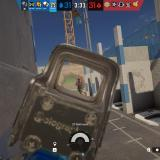Character: (75, 79, 83, 95)
Head: (78, 79, 80, 82)
